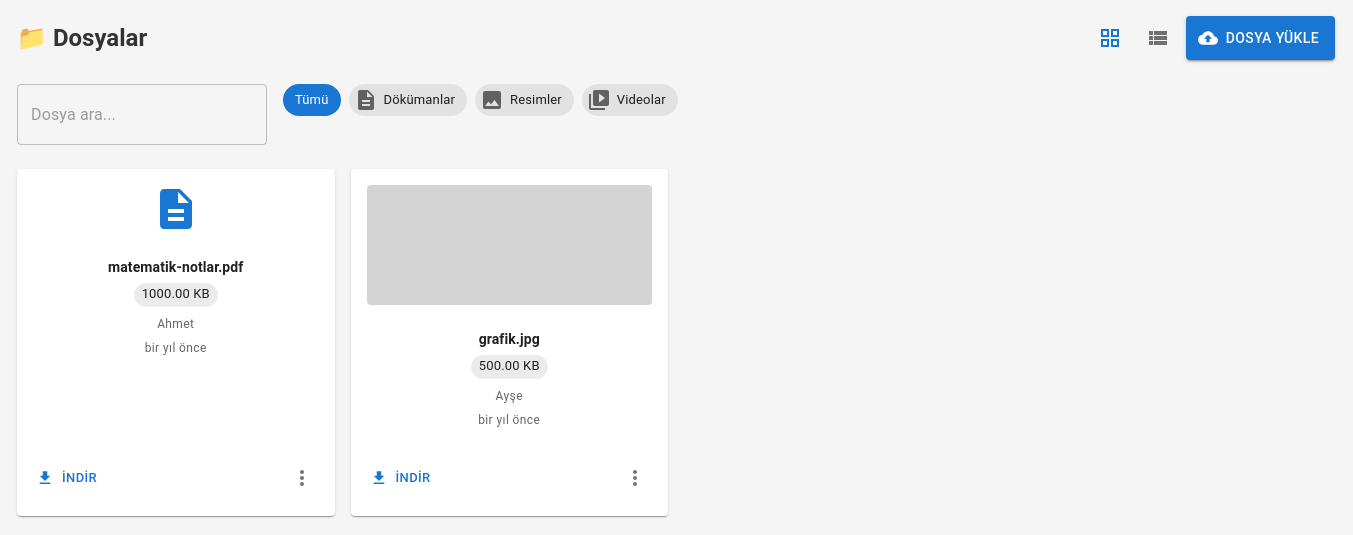
Test case: FileManager Component › File Filtering › filters files by search query
Check: the heading "matematik-notlar.pdf" is shown, box [108, 259, 243, 275]
Step 1. Type "matematik" into the field with placeholder "Dosya ara..." → [142, 114], box [17, 84, 267, 145]
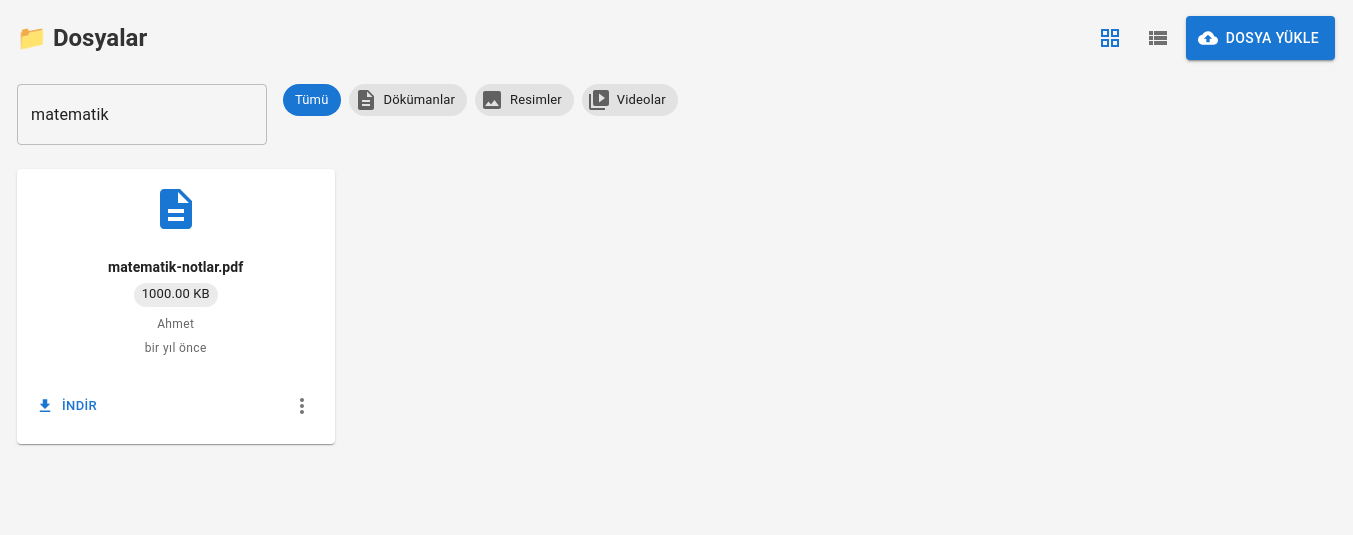
Check: the heading "matematik-notlar.pdf" is shown, box [108, 259, 243, 275]
Check: the heading "grafik.jpg" is gone
